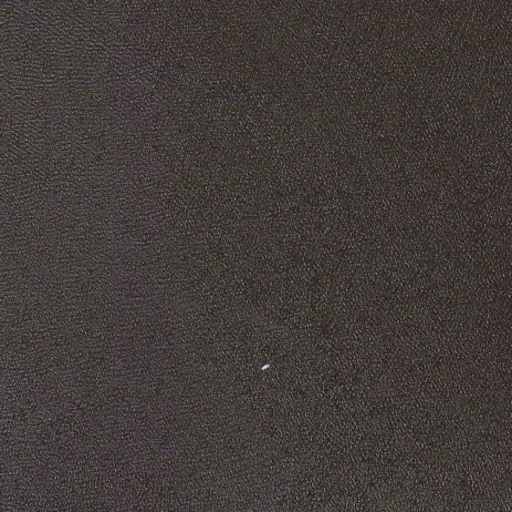ship: (259, 362, 271, 373)
